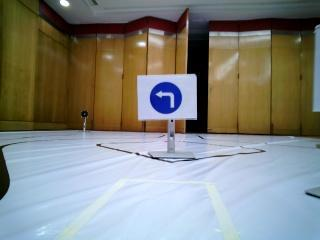left: (137, 77, 199, 118)
